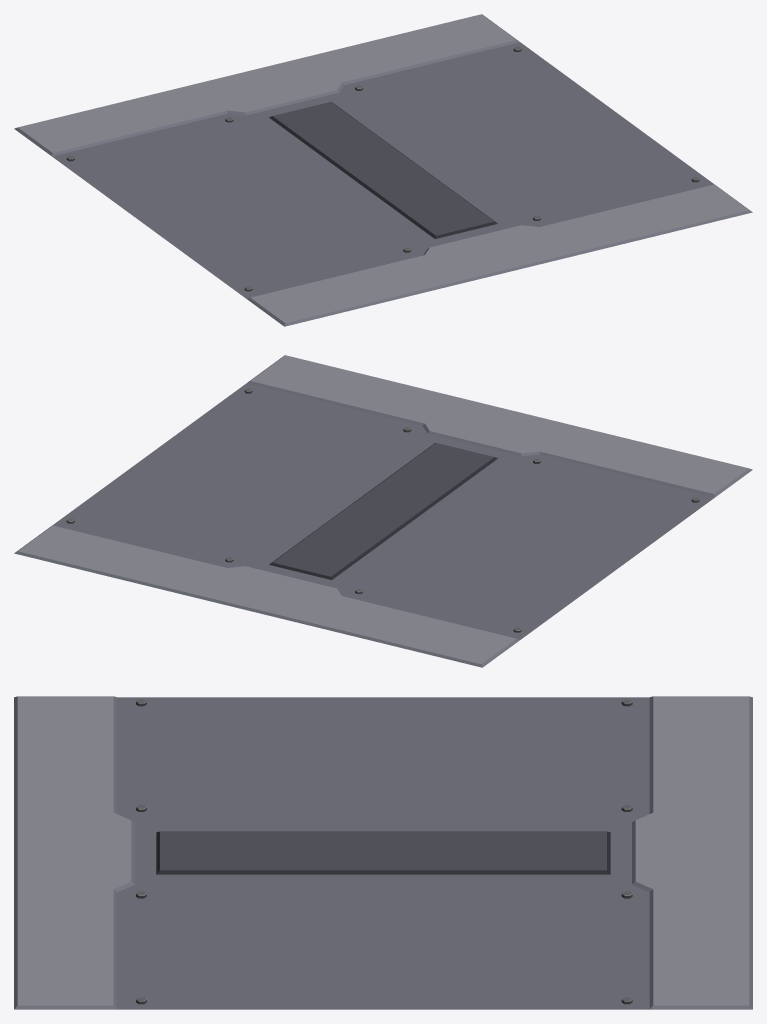
The model's file is FloorSciFiPanel_01.glb.
3 views of the same model, one above another, from view 1: azimuth 30°, elevation 25°; view 2: azimuth 150°, elevation 25°; view 3: azimuth 270°, elevation 25° (orthographic). The views are drawn at different scales.
Parts seen in each view (by area): view 1: FloorSciFiPanel_01; view 2: FloorSciFiPanel_01; view 3: FloorSciFiPanel_01.
Part boxes in pixels (x1,y1,x2,y2): FloorSciFiPanel_01: [14, 14, 752, 326]; FloorSciFiPanel_01: [14, 355, 752, 667]; FloorSciFiPanel_01: [14, 696, 752, 1009].
Size of what is drawn, in the model's own units: 2 by 0.01 by 2.
Materials: 1 (1 with a texture image).
